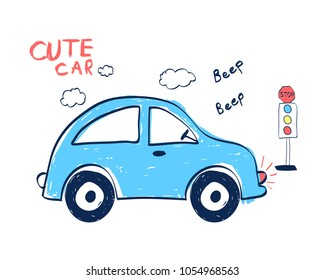car: (35, 95, 273, 224)
